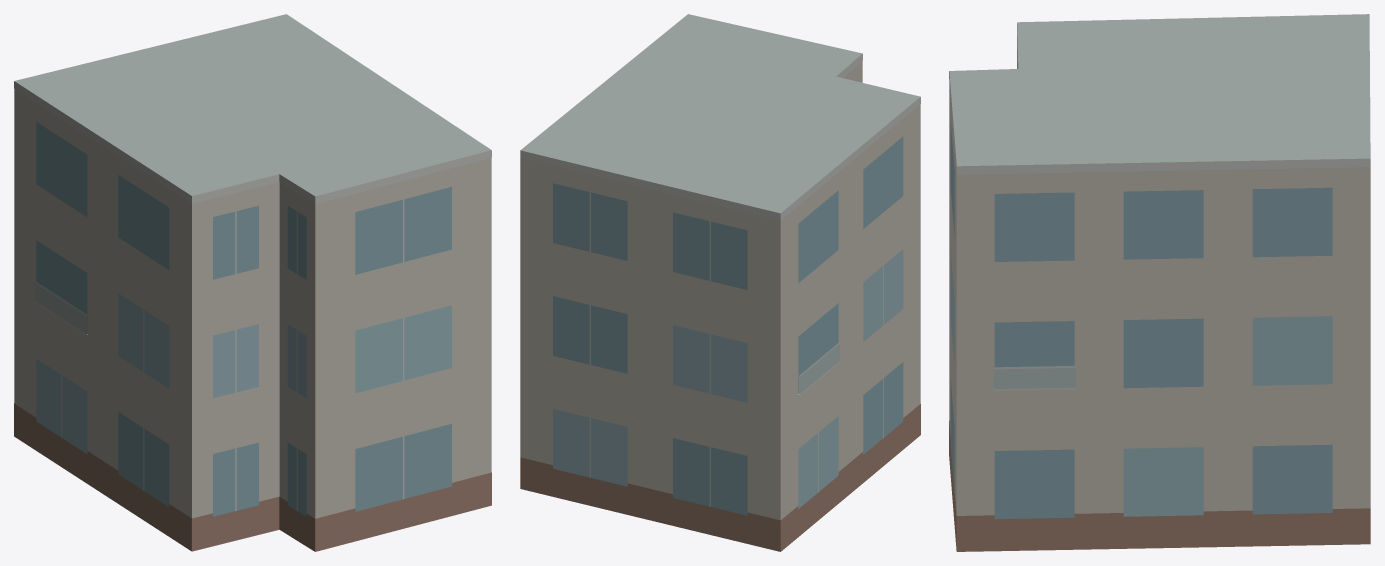
The model's file is survey-upis-32657053.glb.
3 views of the same model, side by side, from view 1: azimuth 30°, elevation 25°; view 2: azimuth 150°, elevation 25°; view 3: azimuth 270°, elevation 25° (orthographic). The views are drawn at different scales.
Parts seen in each view (by area): view 1: survey-upis-32657053.tmp; view 2: survey-upis-32657053.tmp; view 3: survey-upis-32657053.tmp.
Part boxes in pixels (<box>): survey-upis-32657053.tmp: <box>14,14,491,551</box>; survey-upis-32657053.tmp: <box>520,14,920,551</box>; survey-upis-32657053.tmp: <box>949,14,1370,551</box>.
Bounding box in the file's own units: 9.49 × 11.2 × 11.1.
